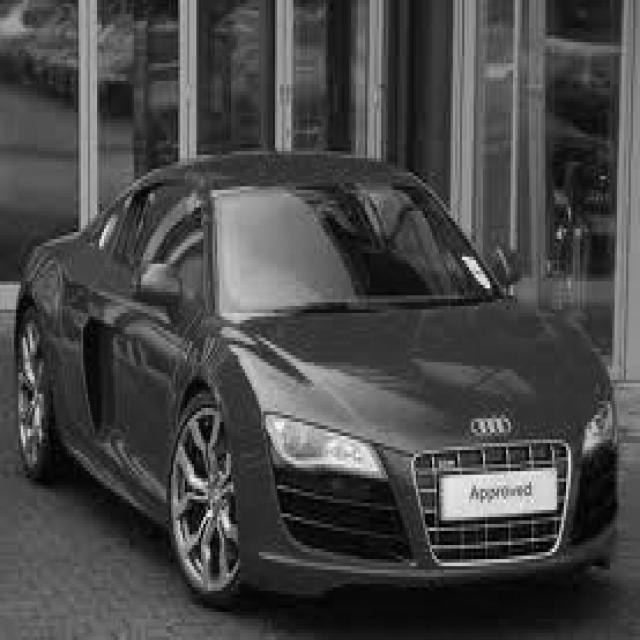car: (11, 144, 624, 608)
